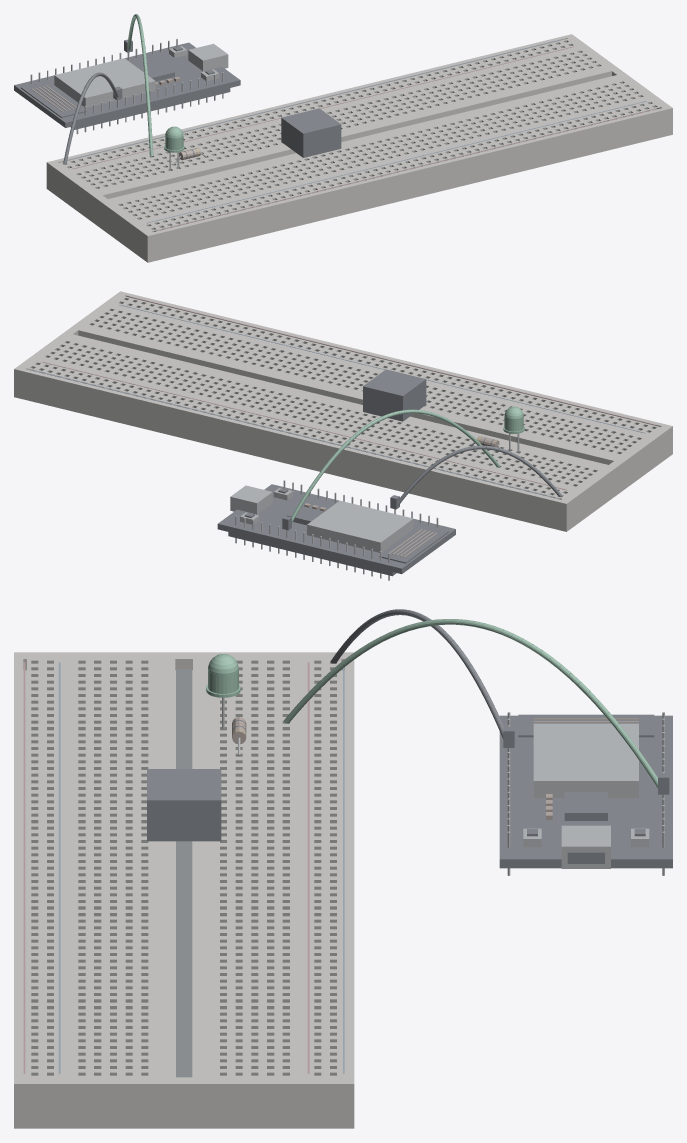
The model's file is step-6.glb.
3 renders of one model, top to bottom at view 1: azimuth 30°, elevation 25°; view 2: azimuth 150°, elevation 25°; view 3: azimuth 270°, elevation 25°, orthographic. The views are drawn at different scales.
Visible parts, largest first — view 1: breadboard__mesh, uno__mesh, button__mesh, led_signal__mesh, ground_feed__mesh, green_led__mesh; view 2: breadboard__mesh, uno__mesh, button__mesh, led_signal__mesh, ground_feed__mesh, green_led__mesh; view 3: breadboard__mesh, uno__mesh, button__mesh, led_signal__mesh, ground_feed__mesh, green_led__mesh.
Boxes of the visible parts, x1=… form: breadboard__mesh: x1=46, y1=34, x2=672, y2=262; uno__mesh: x1=14, y1=39, x2=240, y2=134; button__mesh: x1=281, y1=108, x2=341, y2=157; led_signal__mesh: x1=124, y1=14, x2=153, y2=156; ground_feed__mesh: x1=63, y1=72, x2=122, y2=164; green_led__mesh: x1=164, y1=126, x2=184, y2=170; breadboard__mesh: x1=14, y1=291, x2=672, y2=531; uno__mesh: x1=217, y1=480, x2=455, y2=580; button__mesh: x1=363, y1=369, x2=426, y2=421; led_signal__mesh: x1=282, y1=409, x2=500, y2=530; ground_feed__mesh: x1=390, y1=445, x2=561, y2=509; green_led__mesh: x1=503, y1=406, x2=524, y2=452; breadboard__mesh: x1=14, y1=652, x2=354, y2=1128; uno__mesh: x1=499, y1=712, x2=672, y2=875; button__mesh: x1=147, y1=769, x2=221, y2=841; led_signal__mesh: x1=284, y1=619, x2=669, y2=794; ground_feed__mesh: x1=331, y1=609, x2=514, y2=747; green_led__mesh: x1=206, y1=654, x2=240, y2=729.
Size of the model in its own units: 0.165 by 0.0325 by 0.1065.
